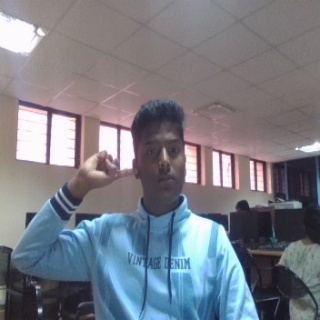Deaf: (74, 149, 138, 191)
Face: (130, 99, 188, 211)
